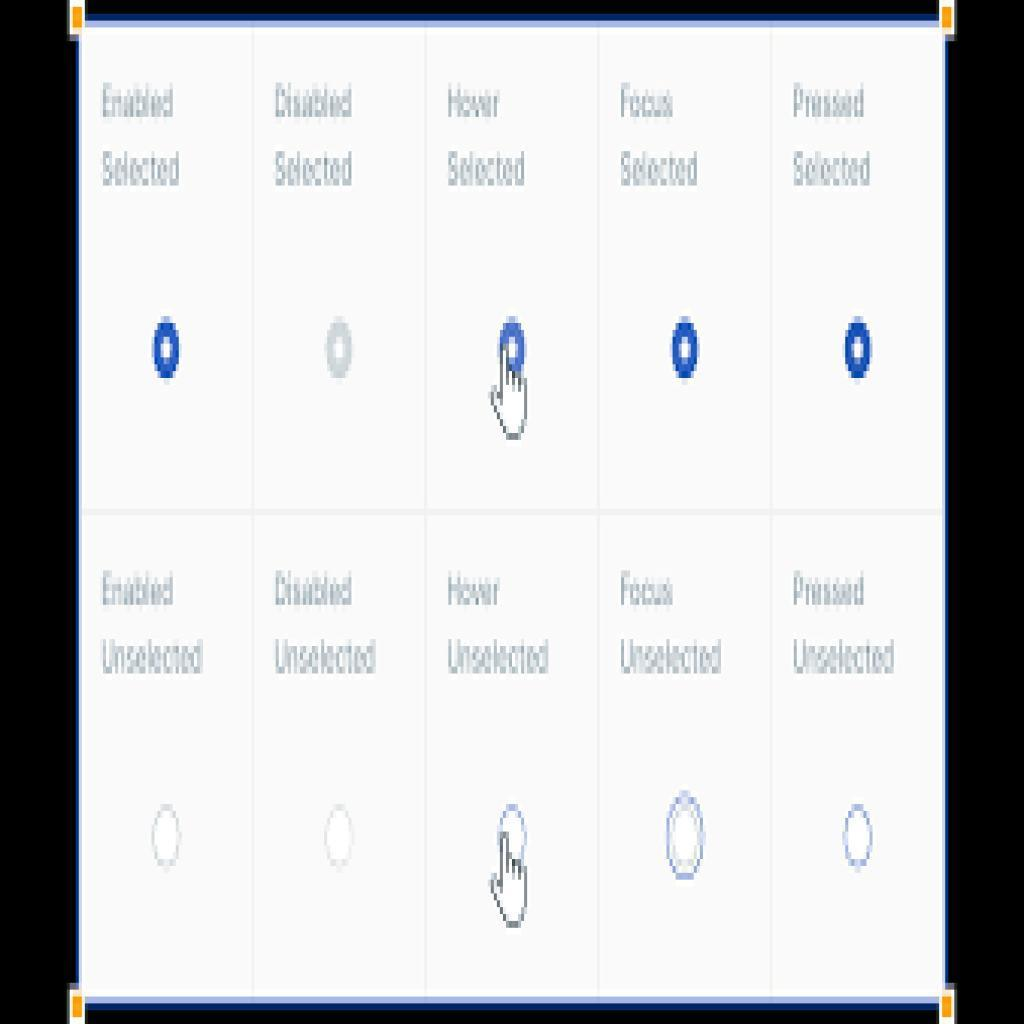radio: (661, 787, 711, 886), (837, 792, 877, 880), (318, 799, 358, 884), (836, 309, 880, 384), (663, 315, 708, 384), (321, 304, 356, 388), (149, 311, 188, 384), (150, 793, 181, 875)
